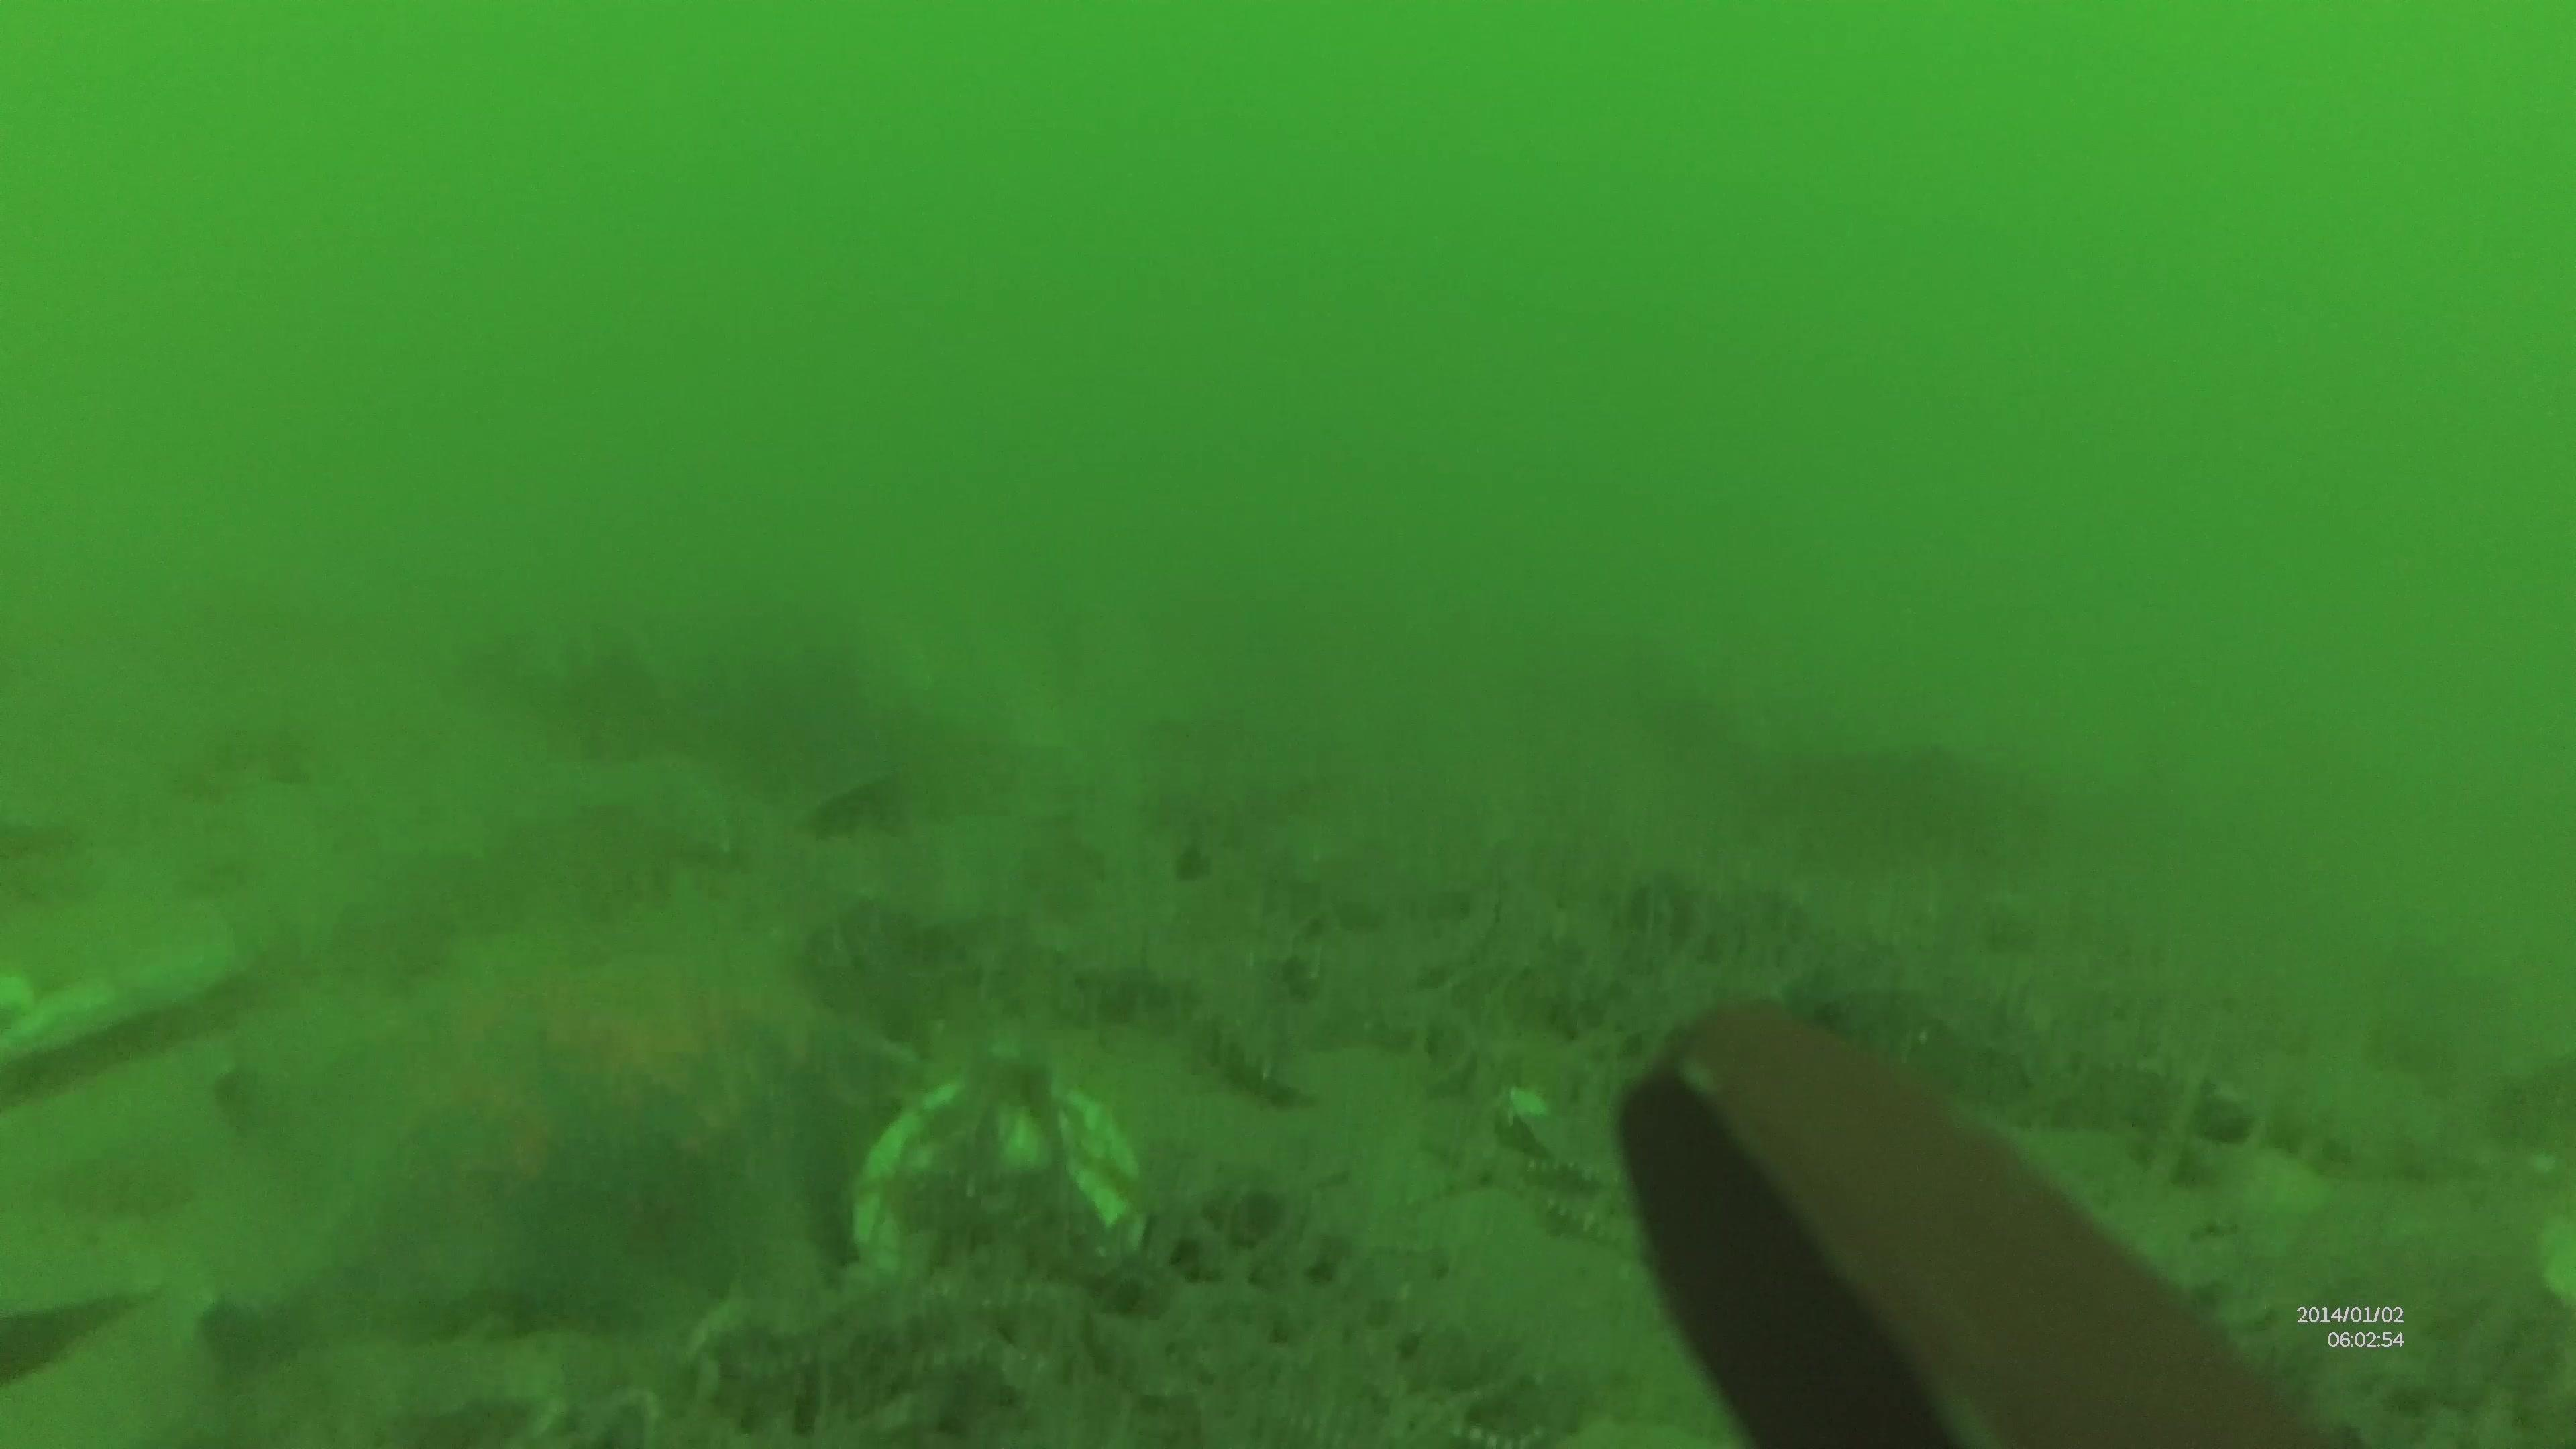scallop: (853, 1074, 1150, 1286)
starfish: (186, 987, 801, 1376)
